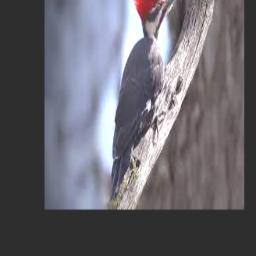Woodpecker: (110, 0, 182, 198)
